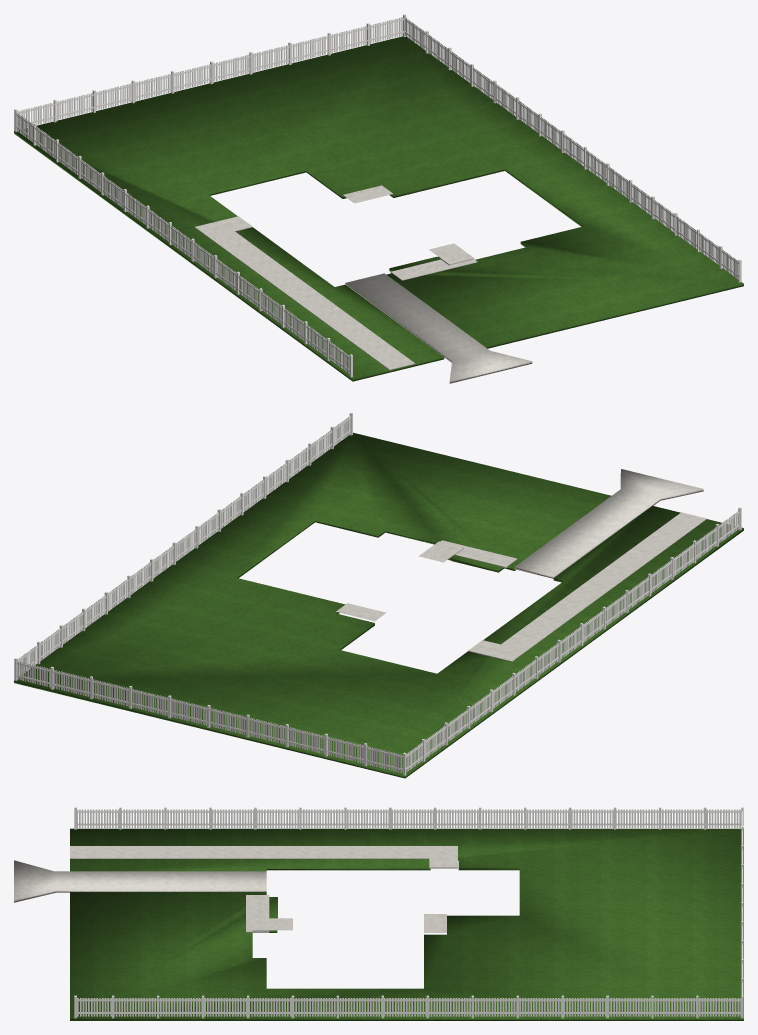
Rendered from utah-lot-v4.glb.
3 views of the same model, one above another, from view 1: azimuth 30°, elevation 25°; view 2: azimuth 150°, elevation 25°; view 3: azimuth 270°, elevation 25° (orthographic).
Parts seen in each view (by area): view 1: Césped del lote, cerca blanca, Entrada de autos, camino al anexo, porches y camino de entrada; view 2: Césped del lote, cerca blanca, Entrada de autos, camino al anexo, porches y camino de entrada; view 3: Césped del lote, cerca blanca, Entrada de autos, camino al anexo, porches y camino de entrada.
Boxes of the visible parts, <box> form: Césped del lote: <box>14,36,743,381</box>; cerca blanca: <box>14,14,741,377</box>; Entrada de autos: <box>345,273,532,383</box>; camino al anexo: <box>194,216,415,369</box>; porches y camino de entrada: <box>343,185,477,280</box>; Césped del lote: <box>14,432,743,778</box>; cerca blanca: <box>14,412,741,775</box>; Entrada de autos: <box>514,469,703,578</box>; camino al anexo: <box>468,512,706,661</box>; porches y camino de entrada: <box>336,540,517,621</box>; Césped del lote: <box>70,828,743,1020</box>; cerca blanca: <box>74,807,743,1018</box>; Entrada de autos: <box>14,860,266,902</box>; camino al anexo: <box>70,846,457,868</box>; porches y camino de entrada: <box>246,895,446,932</box>.
Size of the model in its own units: 24.38 by 1.45 by 39.62.
4 materials, 3 textured.
